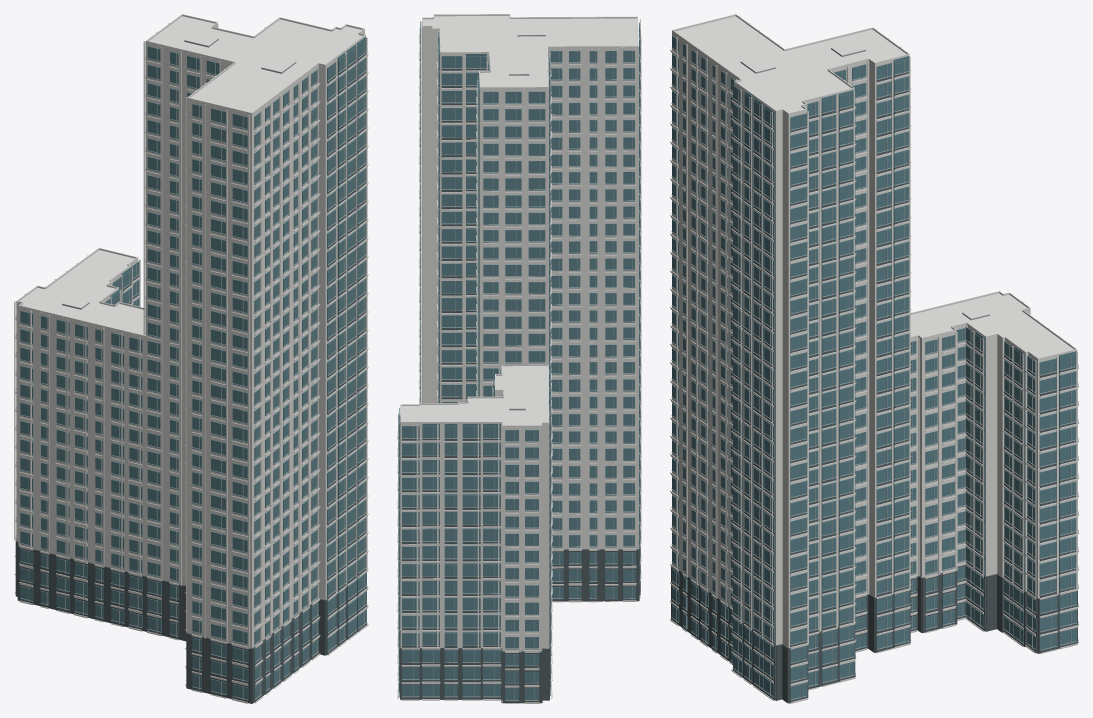
Rendered from bespoke-acro-riverpark-104.glb.
3 renders of one model, left to right at view 1: azimuth 30°, elevation 25°; view 2: azimuth 150°, elevation 25°; view 3: azimuth 270°, elevation 25°, orthographic. The views are drawn at different scales.
Parts seen in each view (by area): view 1: 104_region-0_104_Warm_pale_planes001, 104_region-0_104_Blue_grey_glazing001, 104_region-0_104_Silver_thin_mullions001, 104_region-0_104_Charcoal_lower_storeys001; view 2: 104_region-0_104_Warm_pale_planes001, 104_region-0_104_Blue_grey_glazing001, 104_region-0_104_Silver_thin_mullions001, 104_region-0_104_Charcoal_lower_storeys001; view 3: 104_region-0_104_Blue_grey_glazing001, 104_region-0_104_Warm_pale_planes001, 104_region-0_104_Silver_thin_mullions001, 104_region-0_104_Charcoal_lower_storeys001.
Part boxes in pixels (<box>): 104_region-0_104_Warm_pale_planes001: <box>14,14,368,703</box>; 104_region-0_104_Blue_grey_glazing001: <box>20,37,366,700</box>; 104_region-0_104_Silver_thin_mullions001: <box>16,41,367,700</box>; 104_region-0_104_Charcoal_lower_storeys001: <box>15,53,367,703</box>; 104_region-0_104_Warm_pale_planes001: <box>397,14,641,703</box>; 104_region-0_104_Blue_grey_glazing001: <box>399,21,640,700</box>; 104_region-0_104_Silver_thin_mullions001: <box>398,24,640,701</box>; 104_region-0_104_Charcoal_lower_storeys001: <box>398,41,639,703</box>; 104_region-0_104_Blue_grey_glazing001: <box>672,35,1076,700</box>; 104_region-0_104_Warm_pale_planes001: <box>670,14,1078,703</box>; 104_region-0_104_Silver_thin_mullions001: <box>671,38,1078,700</box>; 104_region-0_104_Charcoal_lower_storeys001: <box>671,72,1078,703</box>.
Size of the model in its own units: 47.7 by 110 by 69.11.
